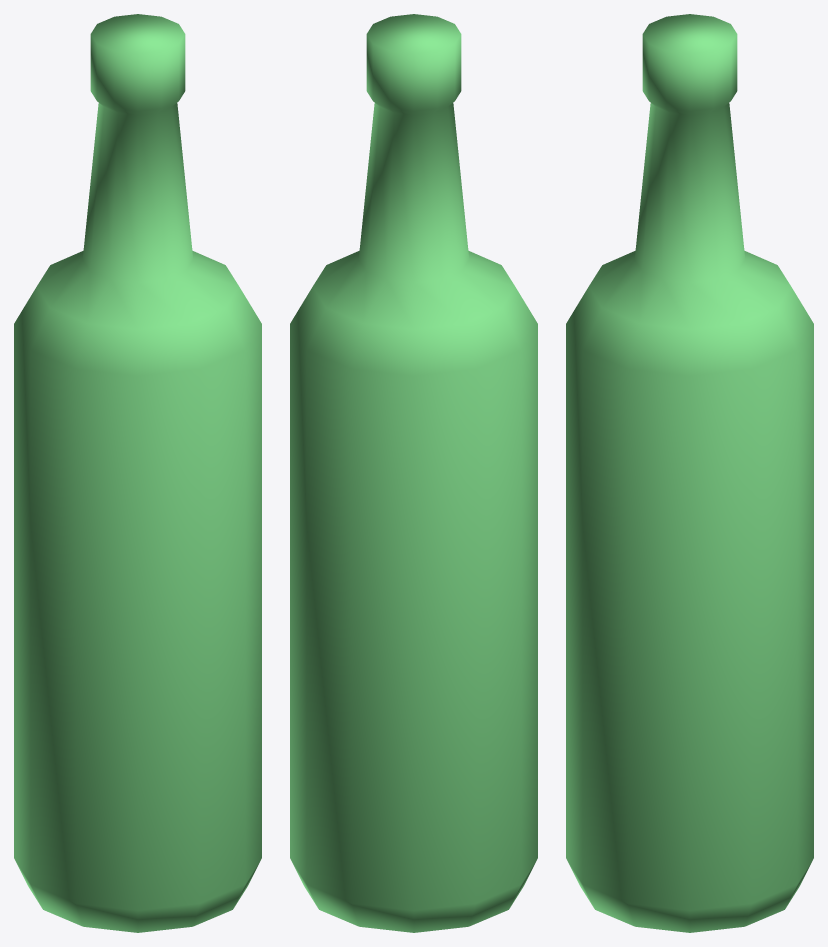
Rendered from olio_oliva.fbx.
3 renders of one model, left to right at view 1: azimuth 30°, elevation 25°; view 2: azimuth 150°, elevation 25°; view 3: azimuth 270°, elevation 25°, orthographic.
Visible parts, largest first — view 1: olio_oliva; view 2: olio_oliva; view 3: olio_oliva.
Part boxes in pixels (x1,y1,x2,y2): olio_oliva: (14,14,261,932); olio_oliva: (290,14,537,932); olio_oliva: (566,14,813,932).
Bounding box in the file's own units: 62.31 × 237 × 62.31.
